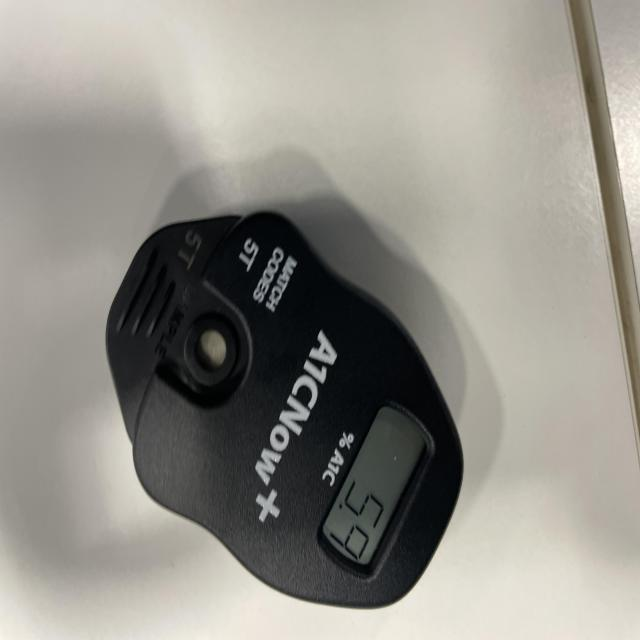hba1c: (104, 212, 466, 612)
